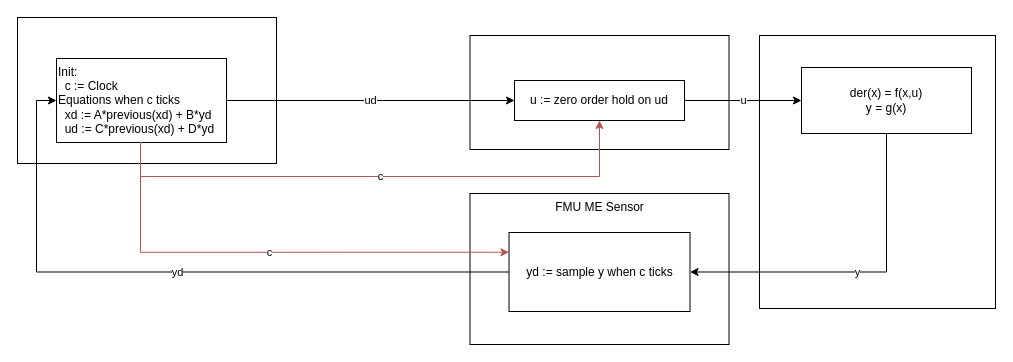
Some shapes in this 1013 by 362 pixel diagram are drawn without their labels. Here are the shapes that lost their labels. From the top down, the box of each, then its label:
(16, 16, 276, 164): FMU ME Ctrl
(469, 34, 729, 150): FMU ME Actuator
(758, 34, 996, 308): FMU ME Plant
